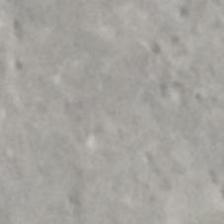Non_Crack: (19, 15, 224, 201)
